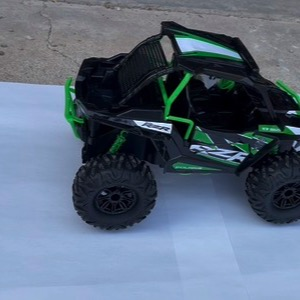polaris: (63, 19, 300, 233)
